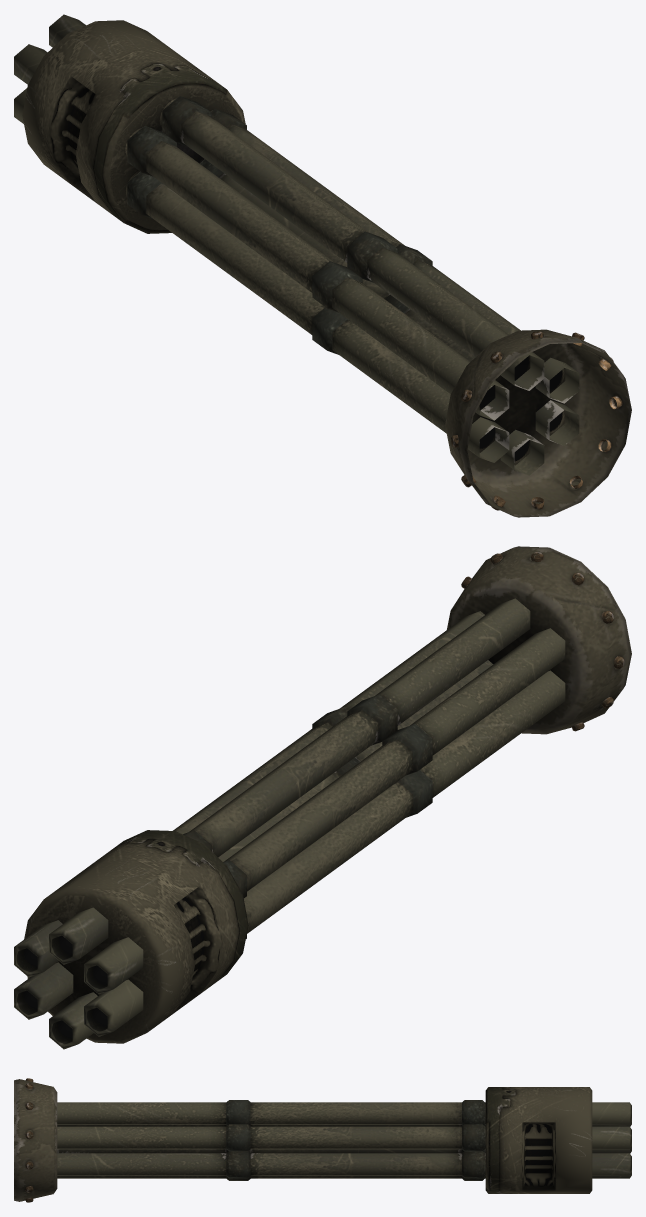
The model's file is getling_gun_01.obj.
3 renders of one model, top to bottom at view 1: azimuth 30°, elevation 25°; view 2: azimuth 150°, elevation 25°; view 3: azimuth 270°, elevation 25°, orthographic. The views are drawn at different scales.
Parts seen in each view (by area): view 1: gatling_top; view 2: gatling_top; view 3: gatling_top.
Part boxes in pixels (left/top/right/bottom): gatling_top: left=14, top=14, right=631, bottom=517; gatling_top: left=14, top=546, right=631, bottom=1049; gatling_top: left=14, top=1078, right=631, bottom=1202.
Bounding box in the file's own units: 6.61 × 6.61 × 32.75.
Materials: 1 (1 with a texture image).
